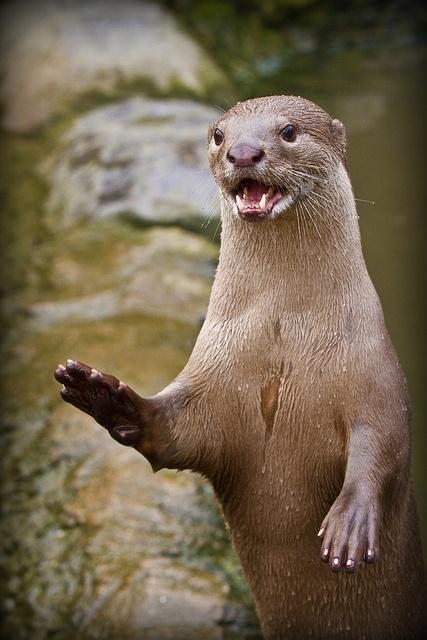otter: (51, 85, 418, 587)
